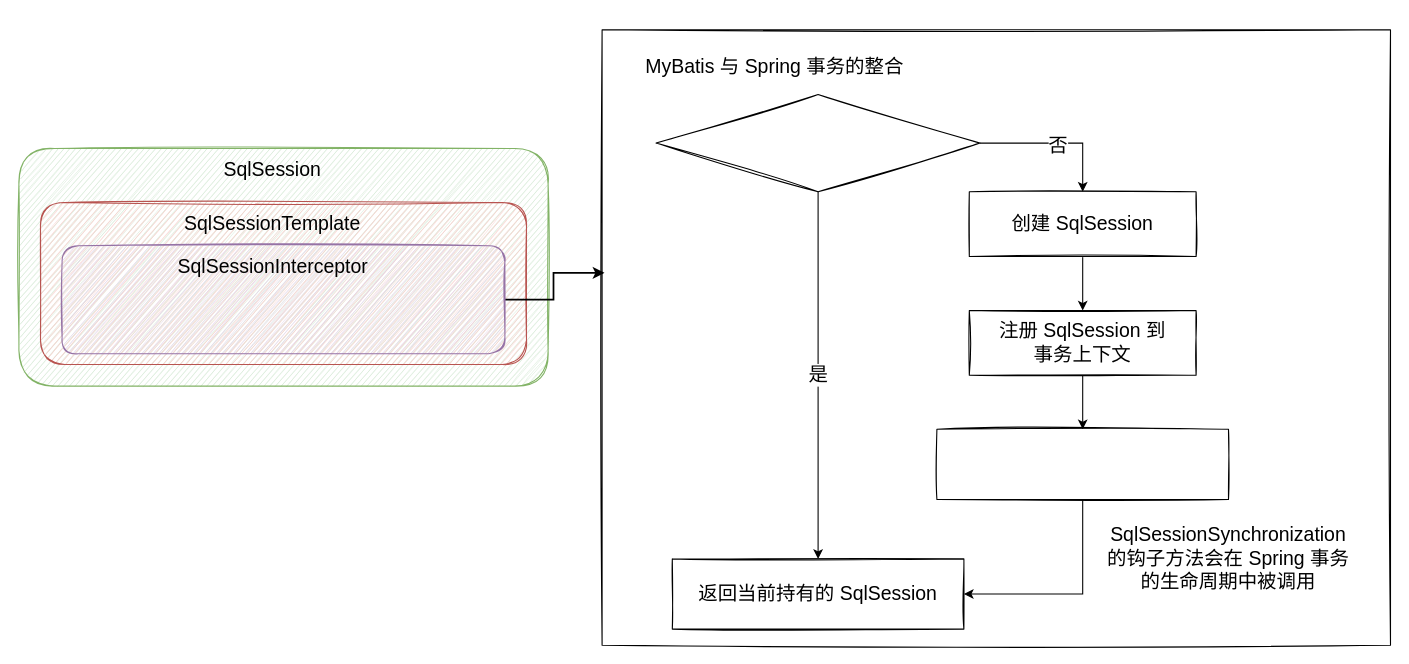
Image size: 1409x664. Some labels were removed from this diagram. Each missing label, with the centre of its shape:
是否能从事务上下文 获取 SqlSession: point 817,142
注册 SqlSessionSynchronization 到事务上下文: point 1082,464
